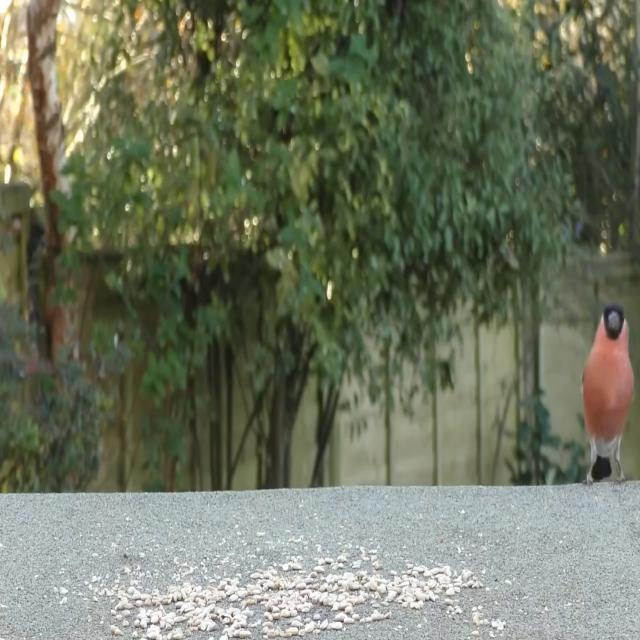beak: (606, 310, 620, 331)
bird: (579, 304, 637, 492)
